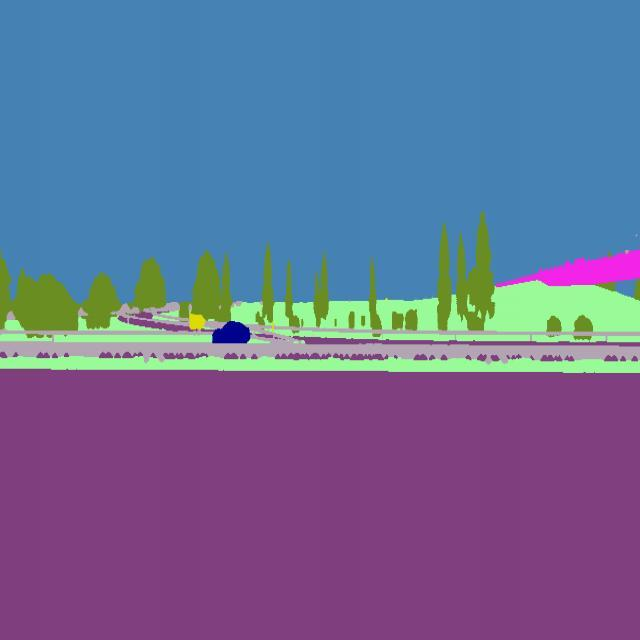safe: (207, 313, 254, 349)
